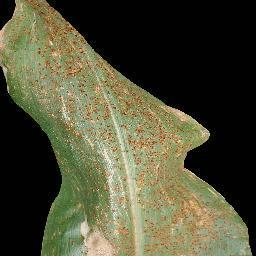Corn_Common_Rust: (96, 50, 254, 256), (36, 0, 98, 256), (0, 0, 35, 121)
